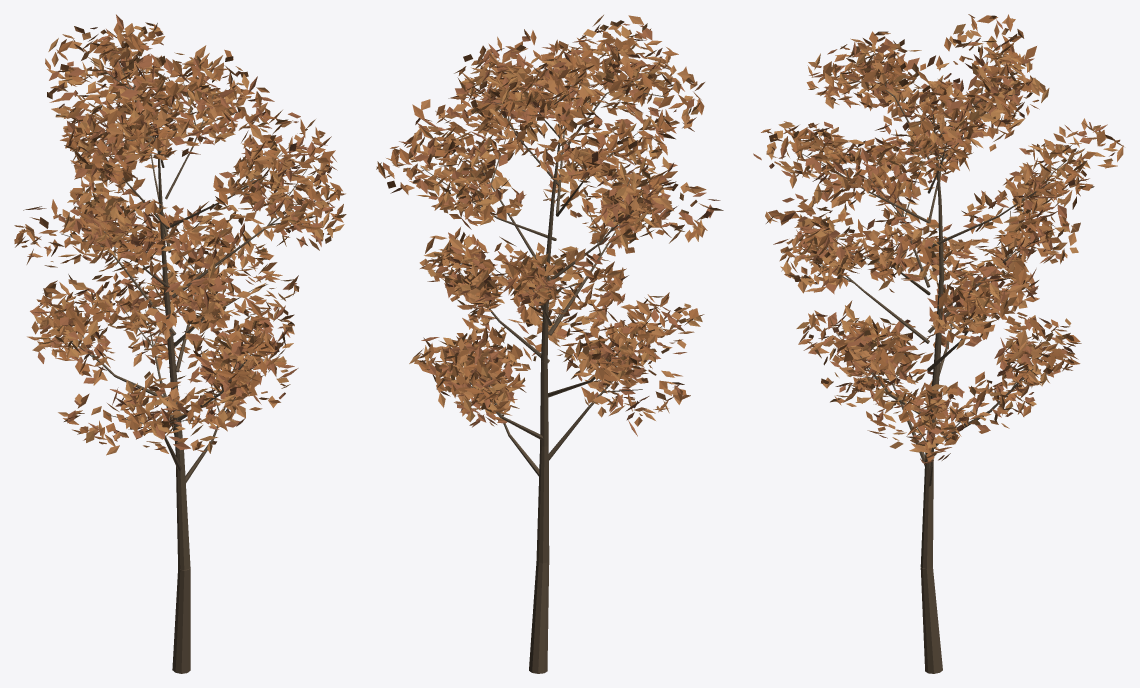
The model's file is campus-autumn-russet-v2.glb.
3 views of the same model, side by side, from view 1: azimuth 30°, elevation 25°; view 2: azimuth 150°, elevation 25°; view 3: azimuth 270°, elevation 25° (orthographic). The views are drawn at different scales.
Parts seen in each view (by area): view 1: 逐片错落分布的叶冠.001, 主干、分枝和末端细枝.001; view 2: 逐片错落分布的叶冠.001, 主干、分枝和末端细枝.001; view 3: 逐片错落分布的叶冠.001, 主干、分枝和末端细枝.001.
Boxes of the visible parts, box(x1,y1,x2,y2) form: 逐片错落分布的叶冠.001: box(14, 14, 346, 455); 主干、分枝和末端细枝.001: box(61, 56, 312, 673); 逐片错落分布的叶冠.001: box(376, 15, 723, 436); 主干、分枝和末端细枝.001: box(420, 47, 672, 673); 逐片错落分布的叶冠.001: box(753, 14, 1123, 464); 主干、分枝和末端细枝.001: box(792, 47, 1078, 673).
Bounding box in the file's own units: 3.25 × 6.64 × 3.6.
